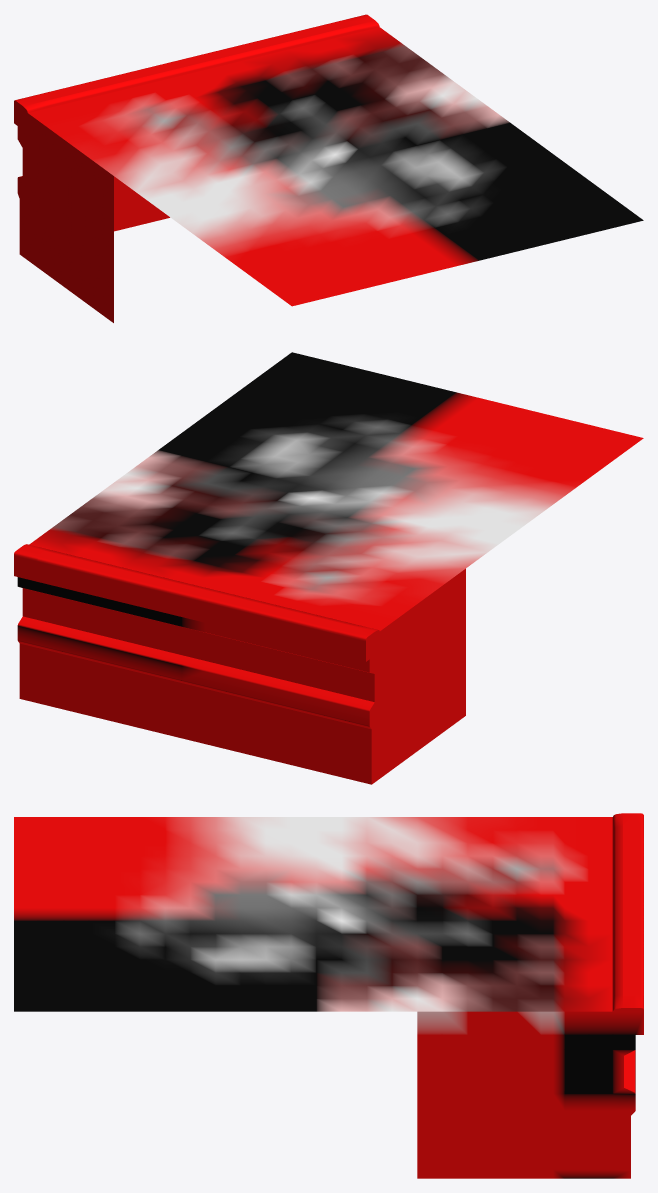
3 renders of one model, top to bottom at view 1: azimuth 30°, elevation 25°; view 2: azimuth 150°, elevation 25°; view 3: azimuth 270°, elevation 25°, orthographic. The views are drawn at different scales.
Visible parts, largest first — view 1: SM_Floor_Platform_01_LOD0; view 2: SM_Floor_Platform_01_LOD0; view 3: SM_Floor_Platform_01_LOD0.
Boxes of the visible parts, box(x1,y1,x2,y2) form: SM_Floor_Platform_01_LOD0: box(14, 14, 643, 322); SM_Floor_Platform_01_LOD0: box(14, 352, 643, 784); SM_Floor_Platform_01_LOD0: box(14, 813, 643, 1178).
Size of the model in its own units: 500 by 684 by 205.
